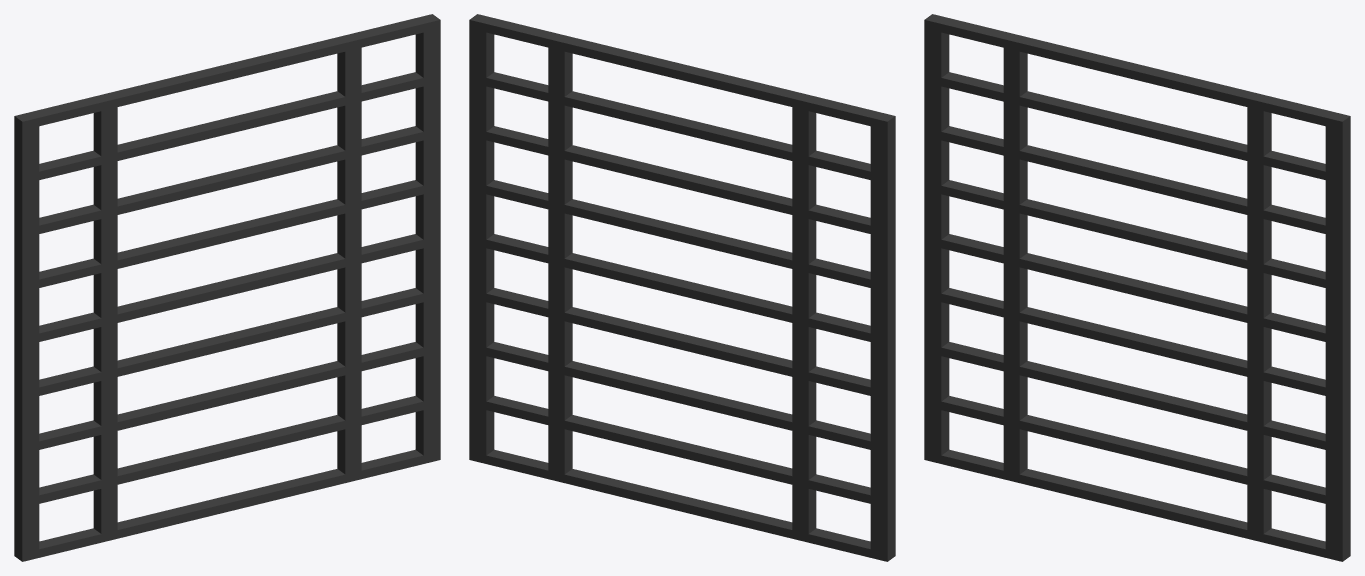
Rendered from fbx_school_gate1.fbx.
3 views of the same model, side by side, from view 1: azimuth 30°, elevation 25°; view 2: azimuth 150°, elevation 25°; view 3: azimuth 330°, elevation 25° (orthographic).
Visible parts, largest first — view 1: fbx_school_gate1; view 2: fbx_school_gate1; view 3: fbx_school_gate1.
Part boxes in pixels (x1,y1,x2,y2): fbx_school_gate1: (14,14,440,561); fbx_school_gate1: (469,14,895,561); fbx_school_gate1: (924,14,1350,561).
Bounding box in the file's own units: 1.31 × 1.31 × 0.043.
Materials: 1 (1 with a texture image).
